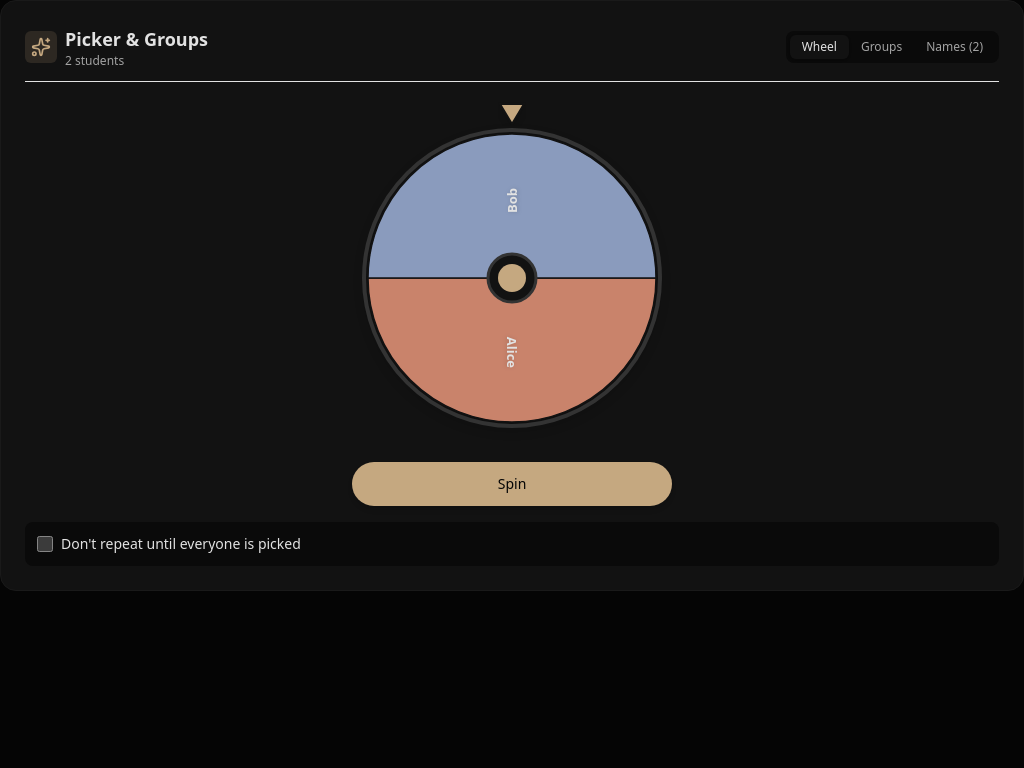
Test: ClassroomPicker (SDD/2026-10-03_06-sorteador-de-alunos-e-grupos.md) › CT05 / CA05: opens big screen overlay with large winner name and closes on Escape
This screenshot has width=1024, height=768.
Click the button "Spin" at (512, 484), box [352,462,672,506]
Wait 2500 ms
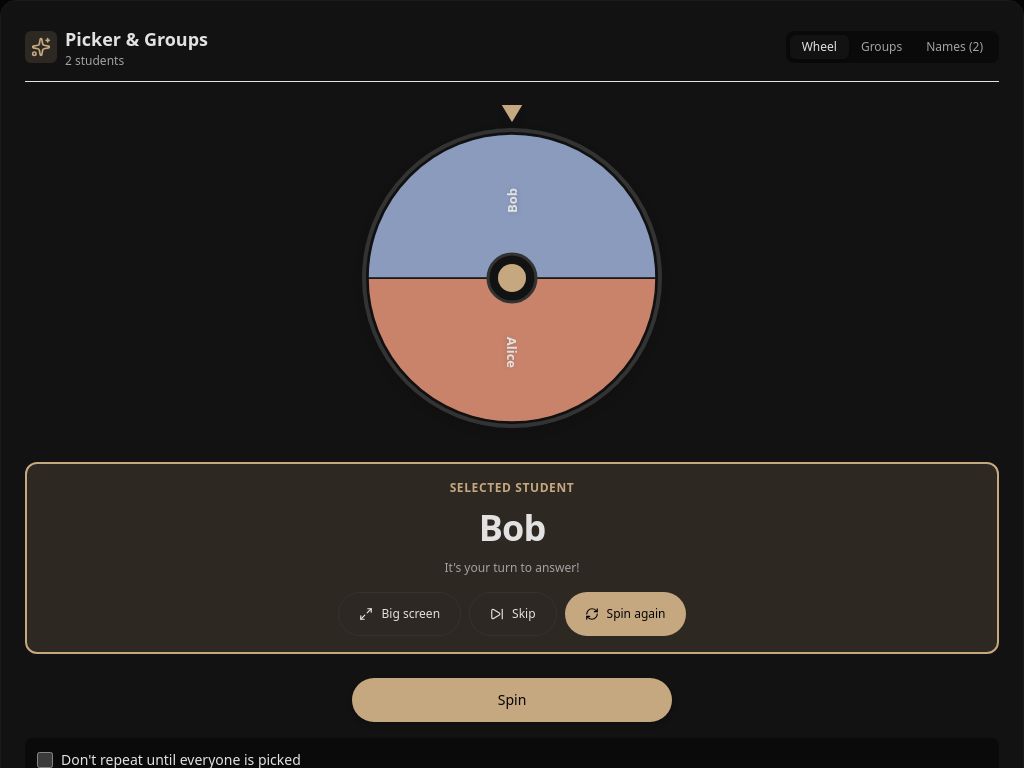
// Big screen button
Click the button "Big screen" at (400, 614), box [338,592,461,636]
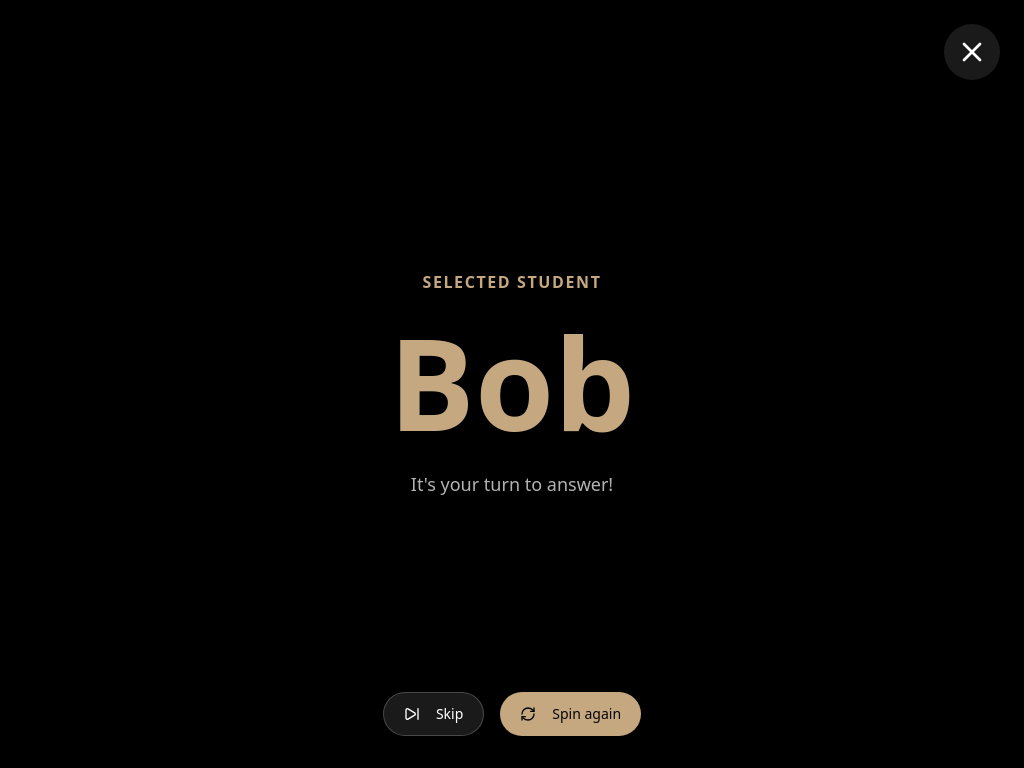
Expected: the dialog named "big screen" is shown
// Press Escape to dismiss
Press Escape
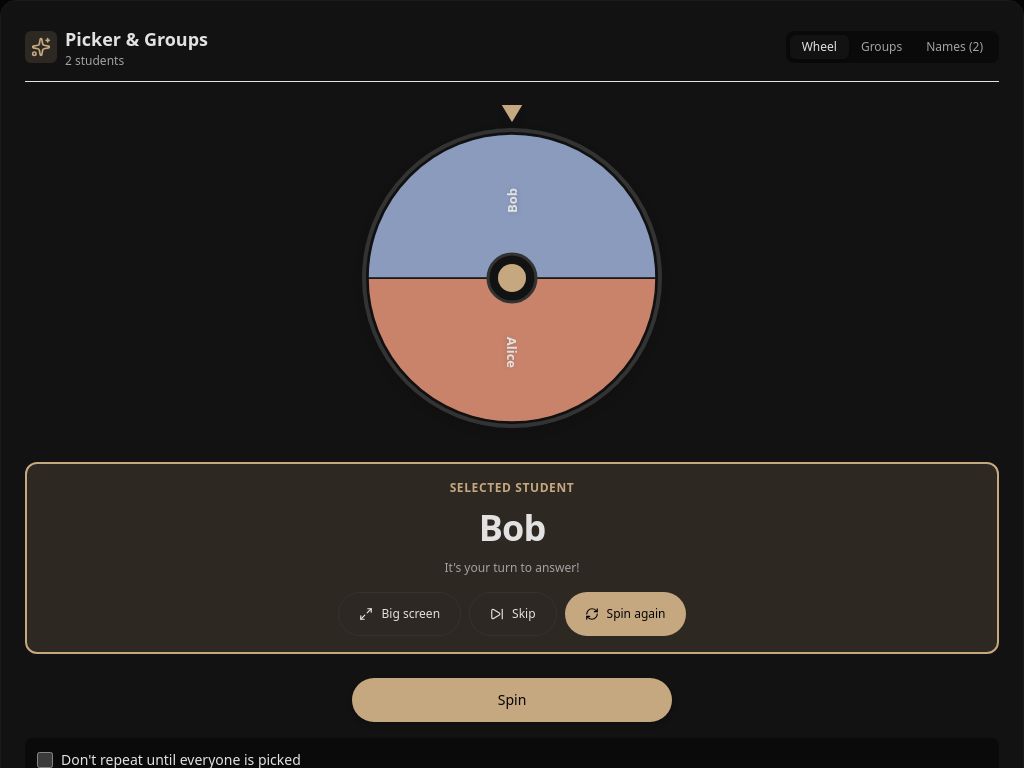
Expected: the dialog is gone
